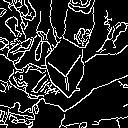cube: (42, 37, 88, 102)
